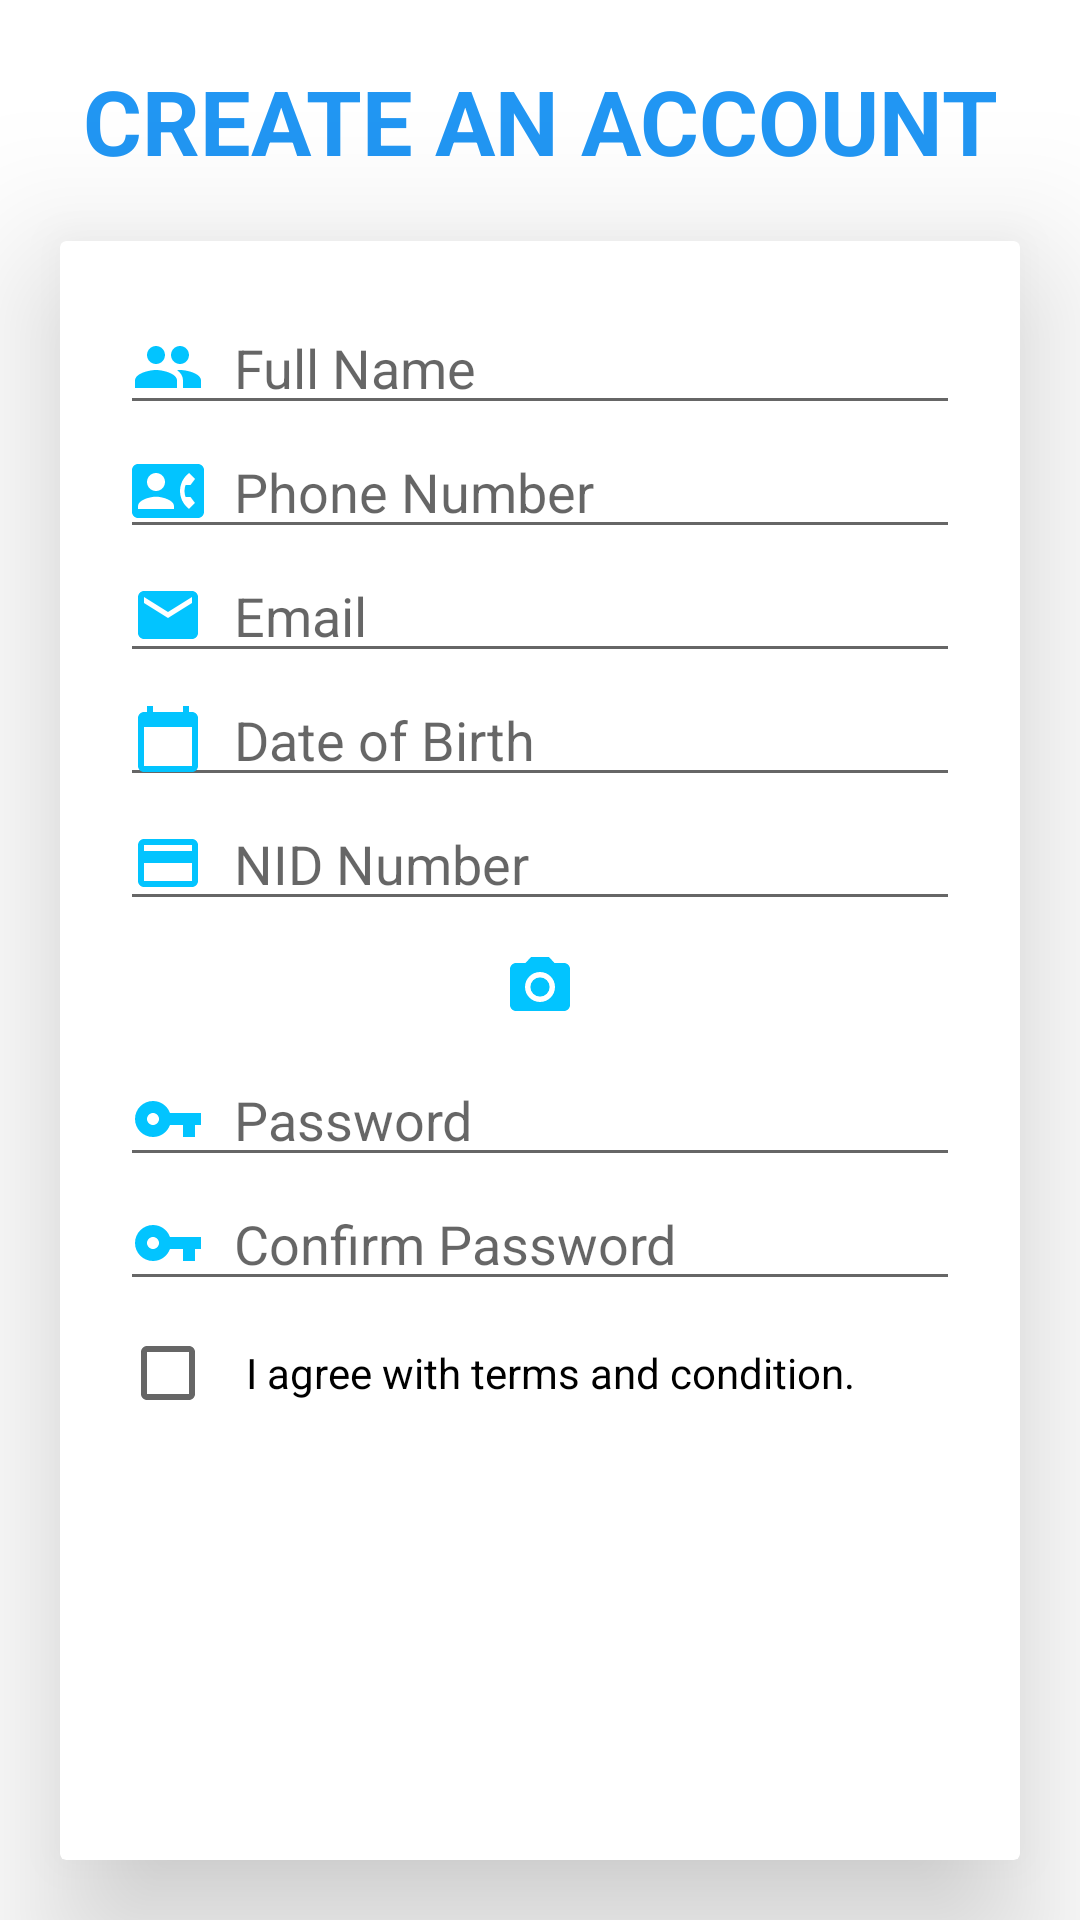

Icon click points for this 1080 × 1920 phone screenshot, format [x,y]:
camera: [540,984]
